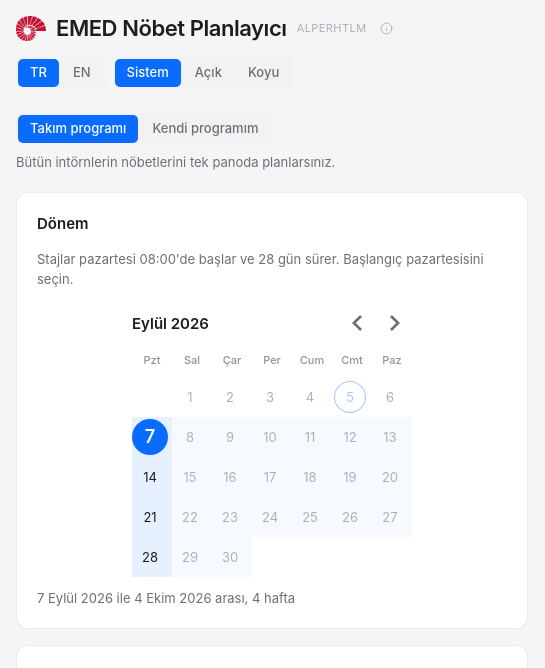
setup › switches the whole interface to English, dates included
The image size is (545, 668).
Click the radio button labelled "EN" at (82, 73), box [61,59,103,87]
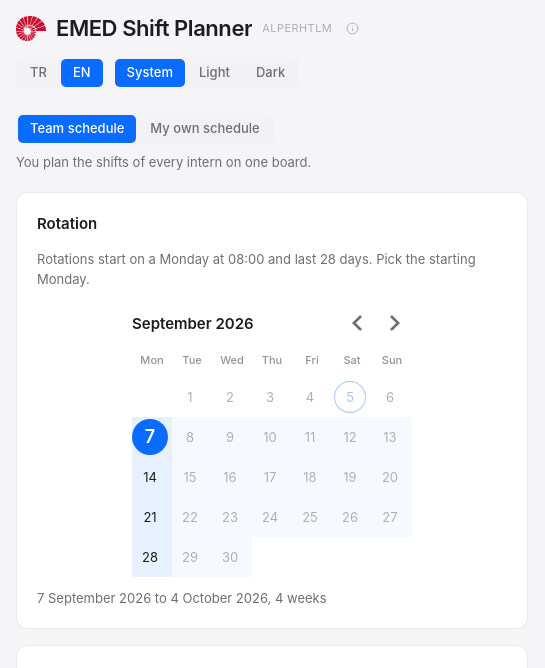
Now the heading "Rotation" is shown, box [37,214,97,233]
Now the text "7 September 2026 to 4 October 2026, 4 weeks" is shown, box [37,590,327,606]
Now the column heading "Mon" is shown, box [132,346,172,377]
Click the radio button labelled "TR" at (38, 73), box [18,59,59,87]
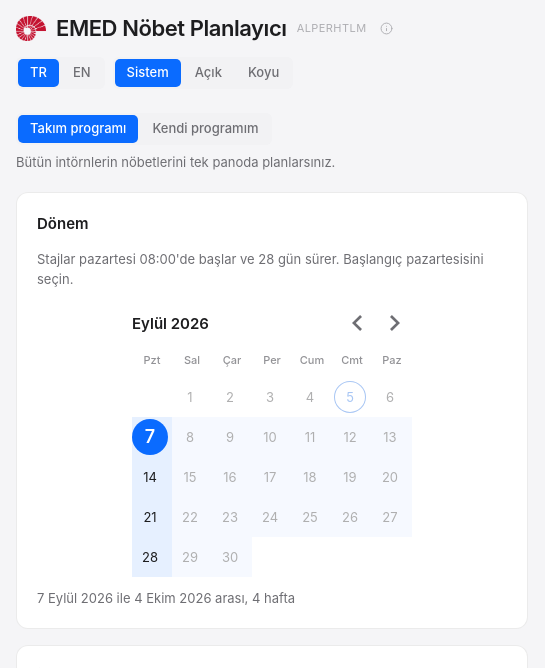
Now the text "7 Eylül 2026 ile 4 Ekim 2026 arası, 4 hafta" is shown, box [37,590,295,606]
Now the column heading "Pzt" is shown, box [132,346,172,377]
